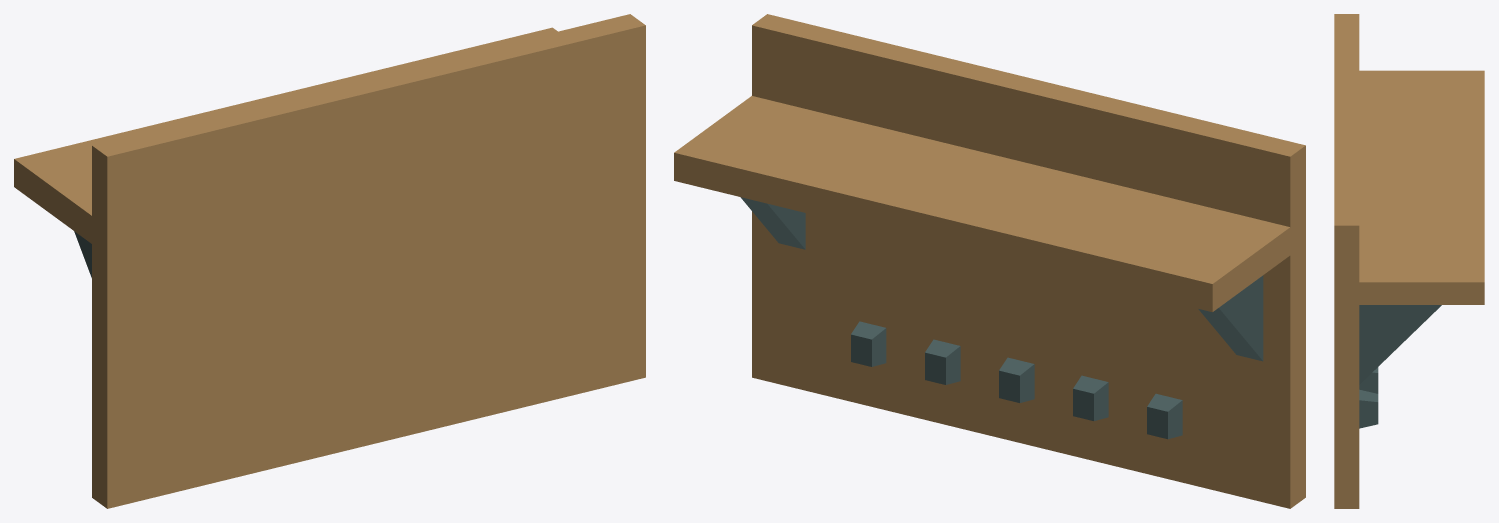
The model's file is coatRack.glb.
3 views of the same model, side by side, from view 1: azimuth 30°, elevation 25°; view 2: azimuth 150°, elevation 25°; view 3: azimuth 270°, elevation 25° (orthographic). The views are drawn at different scales.
Visible parts, largest first — view 1: coatRack; view 2: coatRack; view 3: coatRack.
Boxes of the visible parts, bbox=[...] form: coatRack: bbox=[14, 14, 645, 508]; coatRack: bbox=[674, 14, 1305, 508]; coatRack: bbox=[1334, 14, 1484, 508].
Bounding box in the file's own units: 0.896 × 0.56 × 0.2688.
